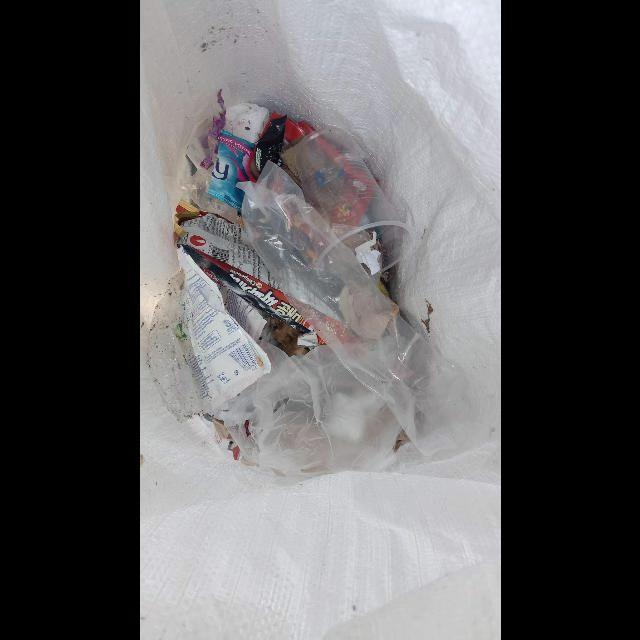food_wrapper: (174, 200, 312, 334)
plastic_bag: (235, 161, 475, 460), (211, 341, 412, 479)
plastic_sachet: (176, 247, 271, 415), (206, 130, 259, 212)
